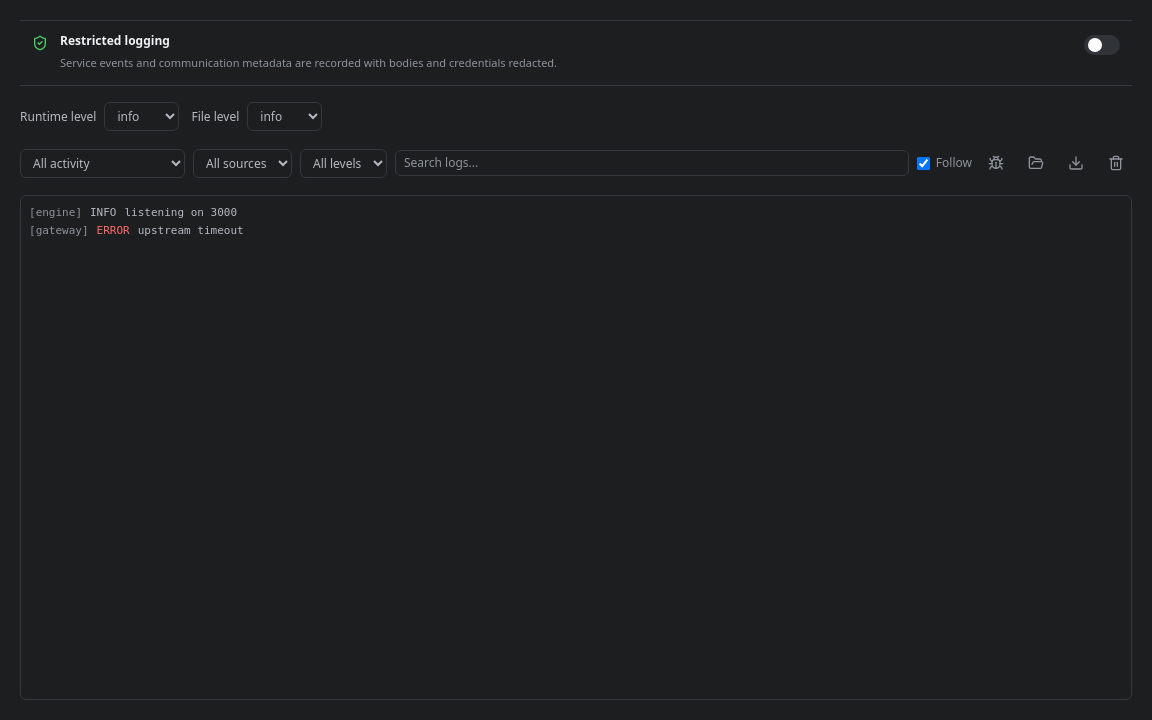
Test: Developer feature workspace › renders and filters the standalone log viewer
Expected: the text "upstream timeout" is shown, [138,222,244,240]
Type "listening" into the search field labelled "Search logs" at point(652, 163), box [395,150,909,176]
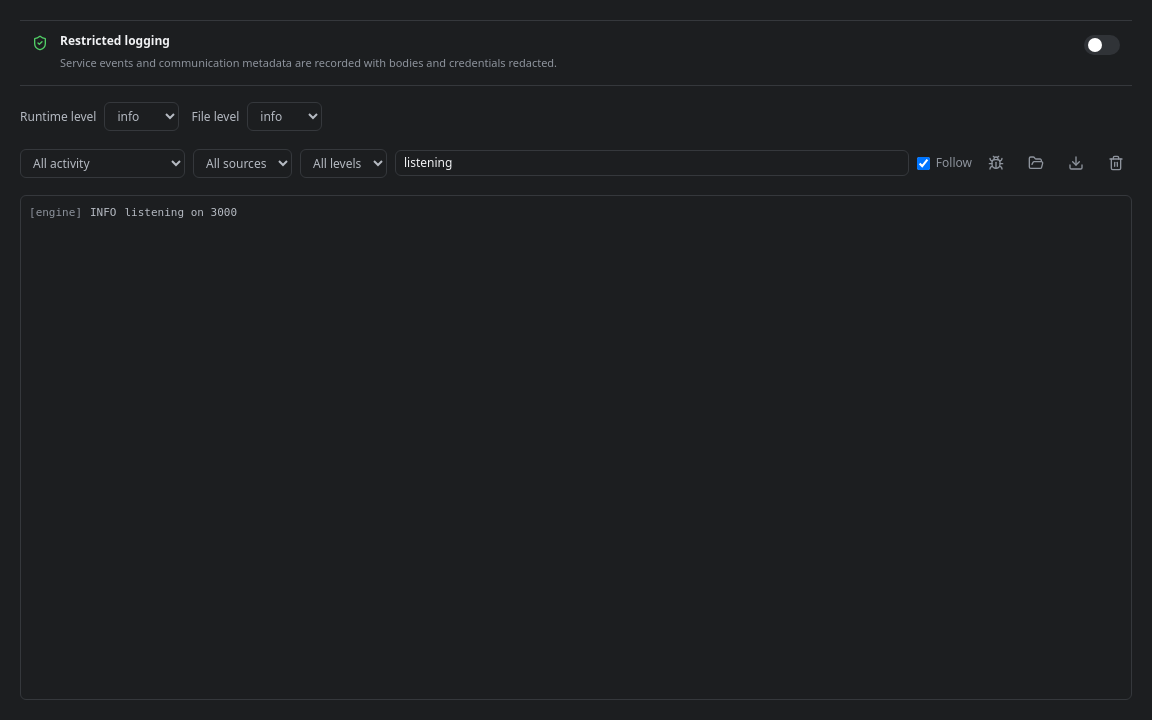
Expected: the text "listening on 3000" is shown, [124,204,237,222]
Now the text "upstream timeout" is gone
